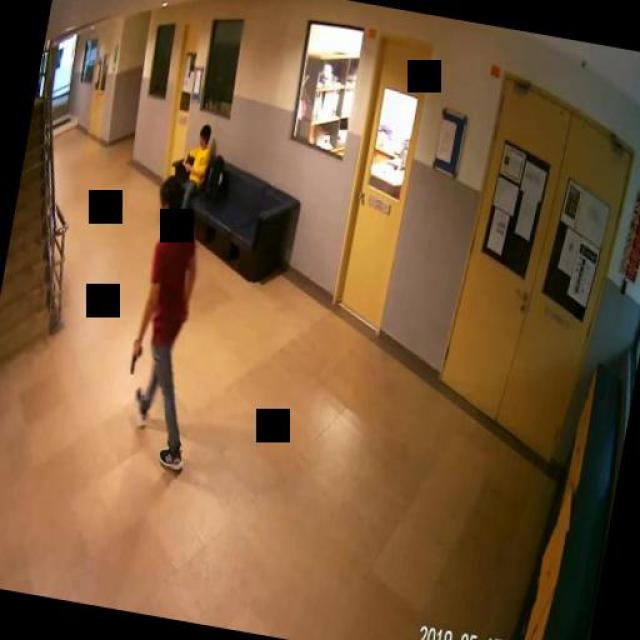gun: (128, 335, 142, 374)
